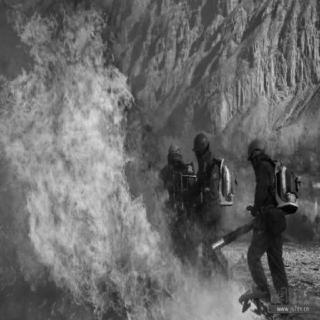other: (239, 129, 297, 297)
